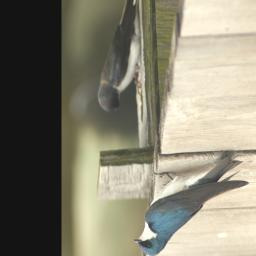Swallow: (134, 155, 249, 256)
